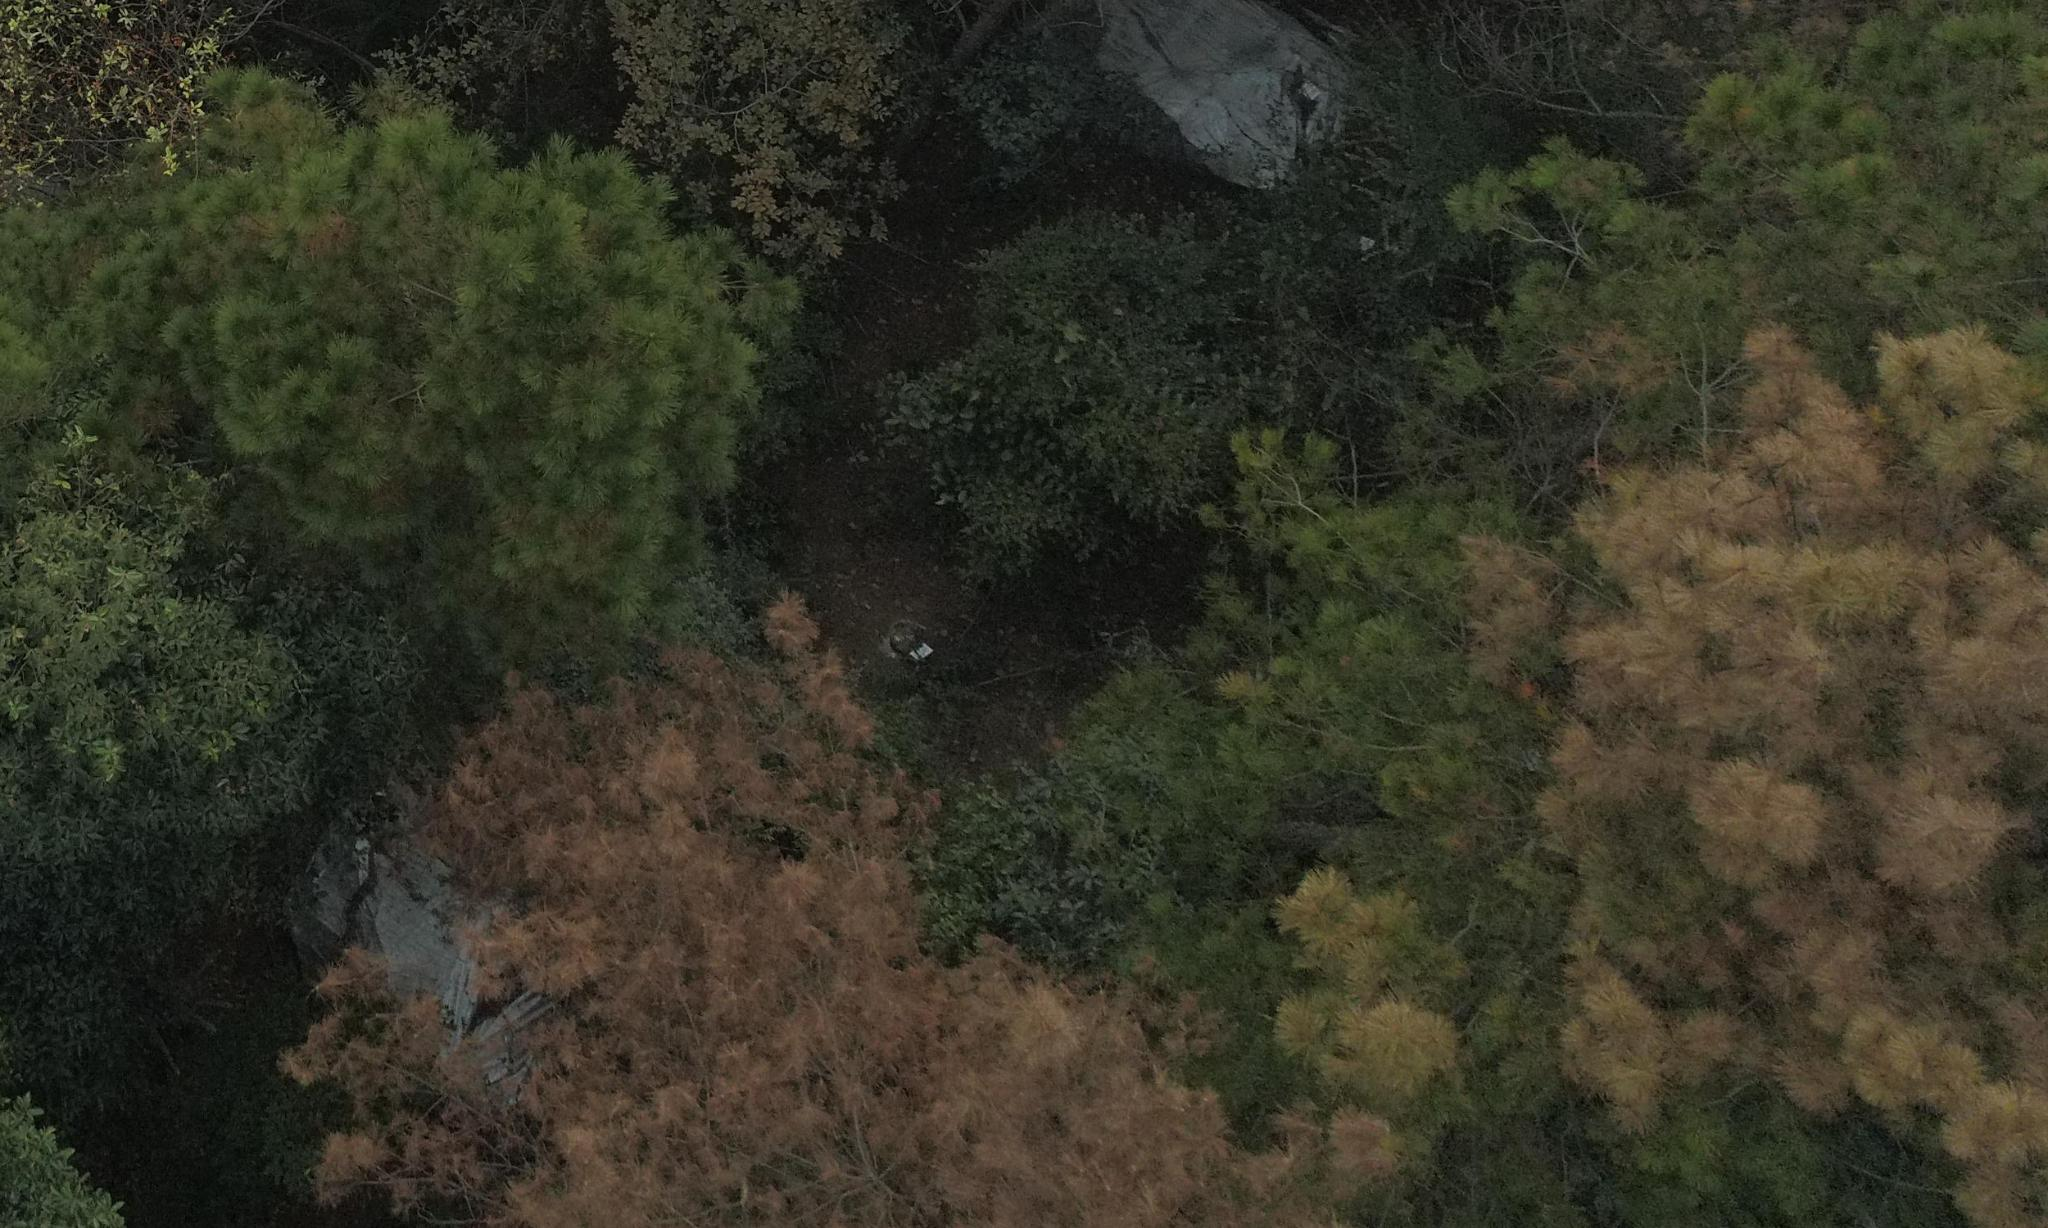heavy: (307, 626, 1275, 1228), (1469, 341, 2048, 1208)
